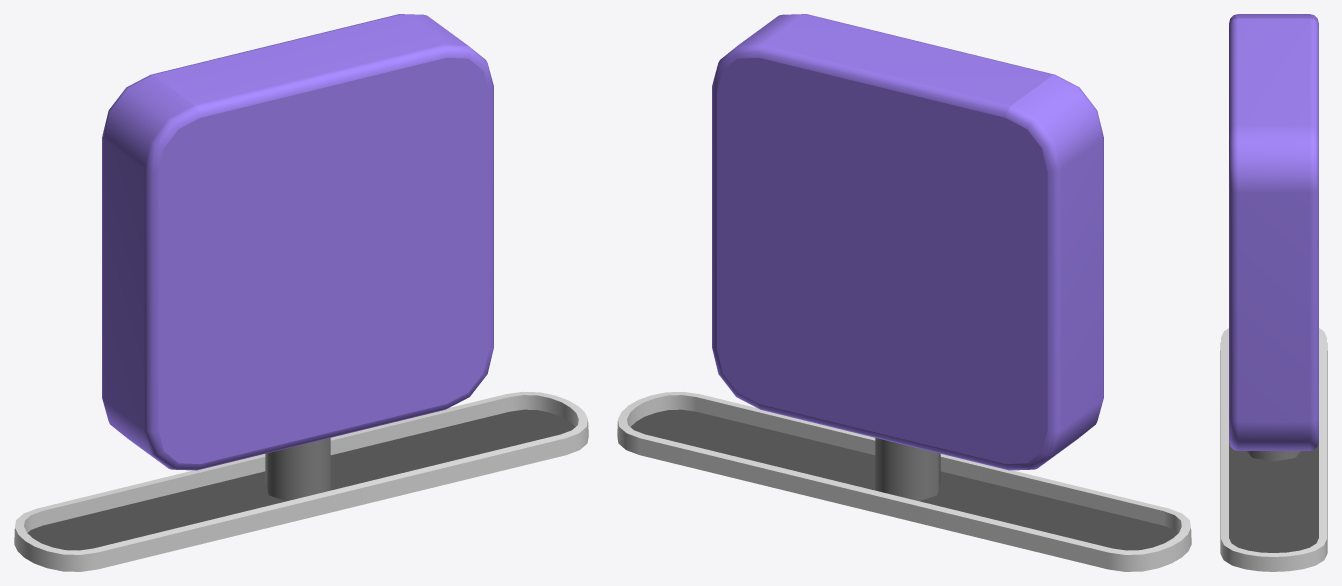
Rendered from Obstacle_54.fbx.
3 renders of one model, left to right at view 1: azimuth 30°, elevation 25°; view 2: azimuth 150°, elevation 25°; view 3: azimuth 270°, elevation 25°, orthographic. The views are drawn at different scales.
Parts seen in each view (by area): view 1: Bia, De; view 2: Bia, De; view 3: Bia, De.
Boxes of the visible parts, left/top/right/bottom form: Bia: left=102, top=14, right=493, bottom=500; De: left=14, top=391, right=588, bottom=571; Bia: left=712, top=14, right=1103, bottom=500; De: left=617, top=391, right=1191, bottom=571; Bia: left=1229, top=14, right=1318, bottom=461; De: left=1220, top=328, right=1327, bottom=571.
Size of the model in its own units: 2.75 by 2.04 by 0.5226.
